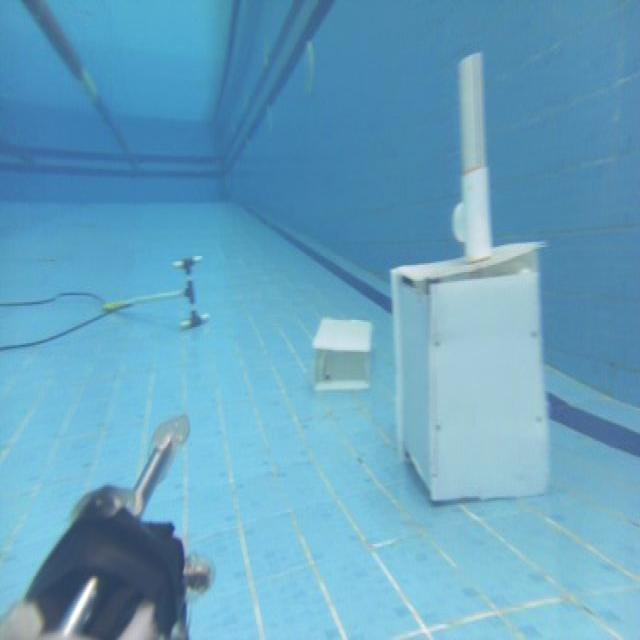Cube: (389, 238, 552, 503)
Cuboid: (311, 315, 373, 391)
